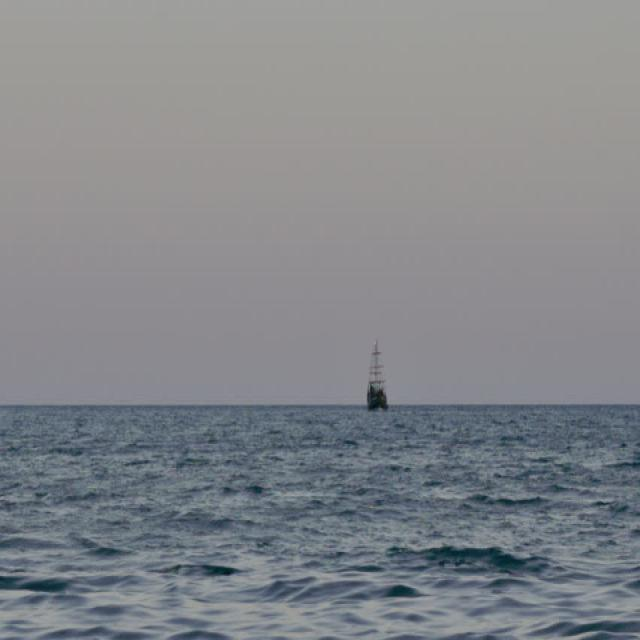fishing boat: (355, 335, 388, 413)
